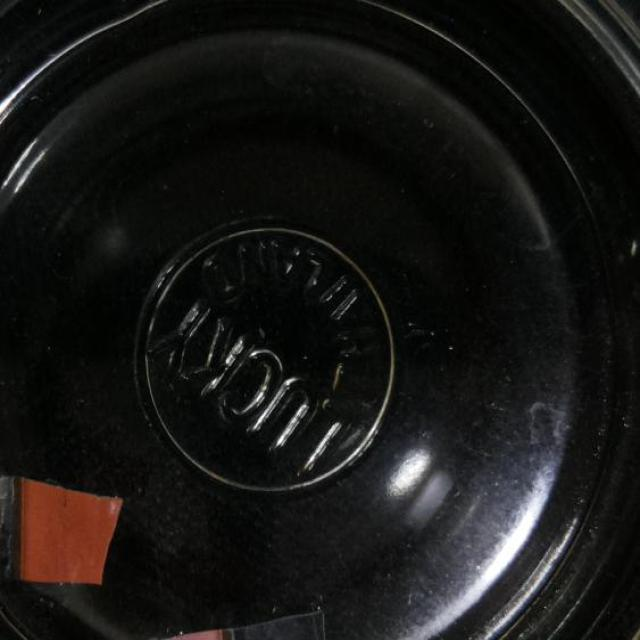fiber: (8, 470, 122, 591)
